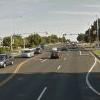Car: (48, 46, 63, 64)
